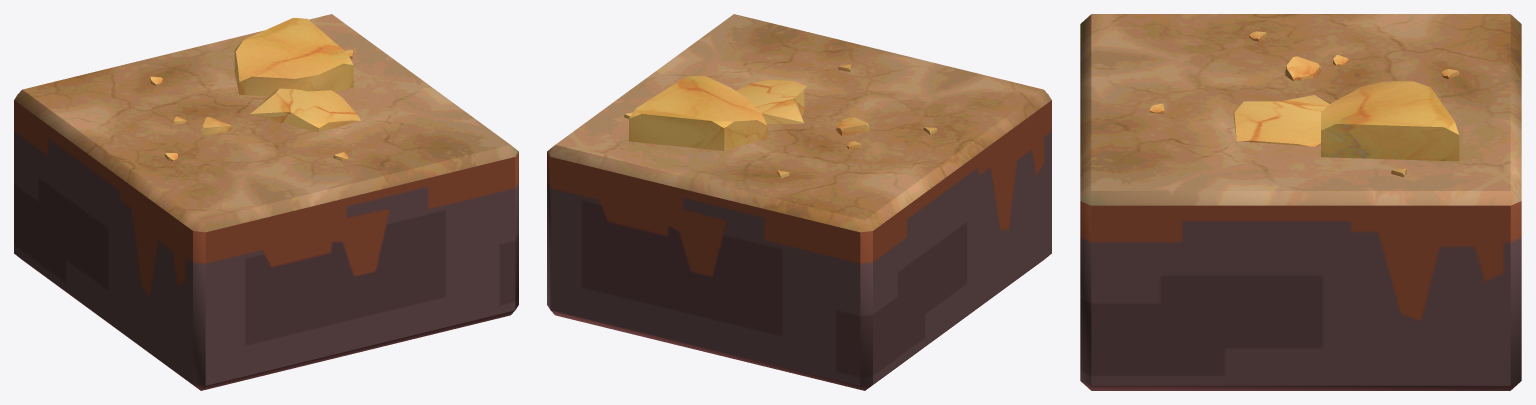
Rendered from tiledesert003.glb.
3 renders of one model, left to right at view 1: azimuth 30°, elevation 25°; view 2: azimuth 150°, elevation 25°; view 3: azimuth 270°, elevation 25°, orthographic. The views are drawn at different scales.
Visible parts, largest first — view 1: tiledesert003; view 2: tiledesert003; view 3: tiledesert003.
Boxes of the visible parts, x1,y1,x2,y2 form: tiledesert003: (14, 14, 518, 390); tiledesert003: (547, 14, 1051, 390); tiledesert003: (1080, 14, 1521, 390).
Bounding box in the file's own units: 1 × 0.5845 × 1.
Materials: 2 (2 with a texture image).
